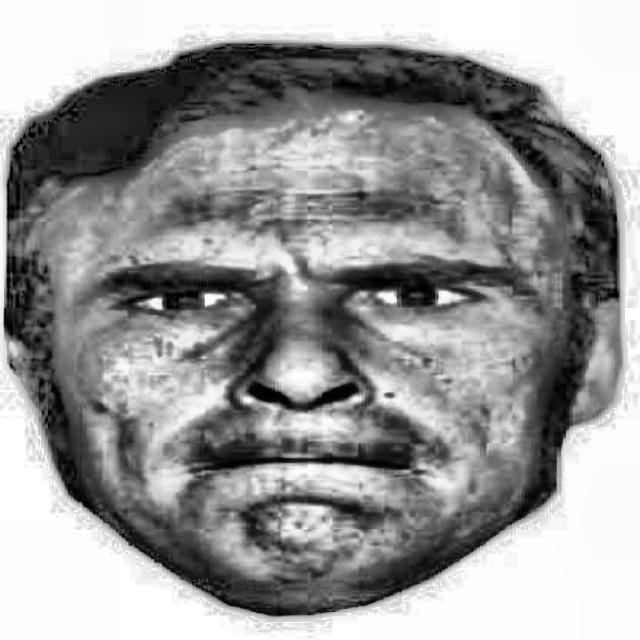angry: (0, 63, 592, 610)
